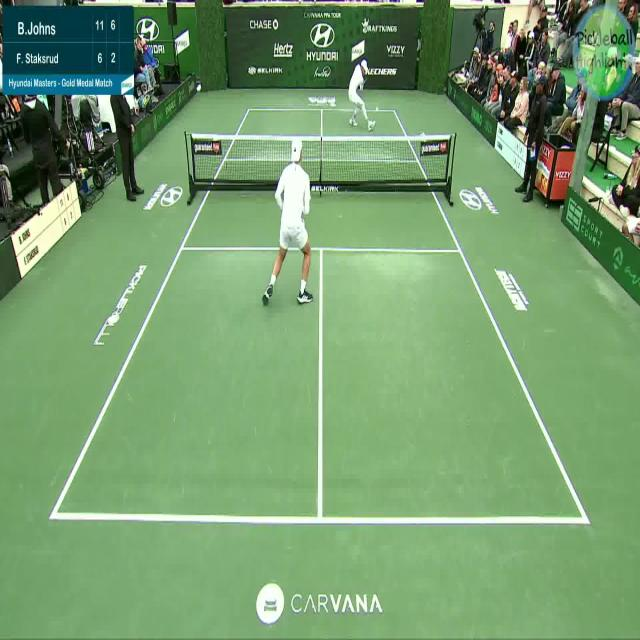ball: (374, 101, 384, 117)
